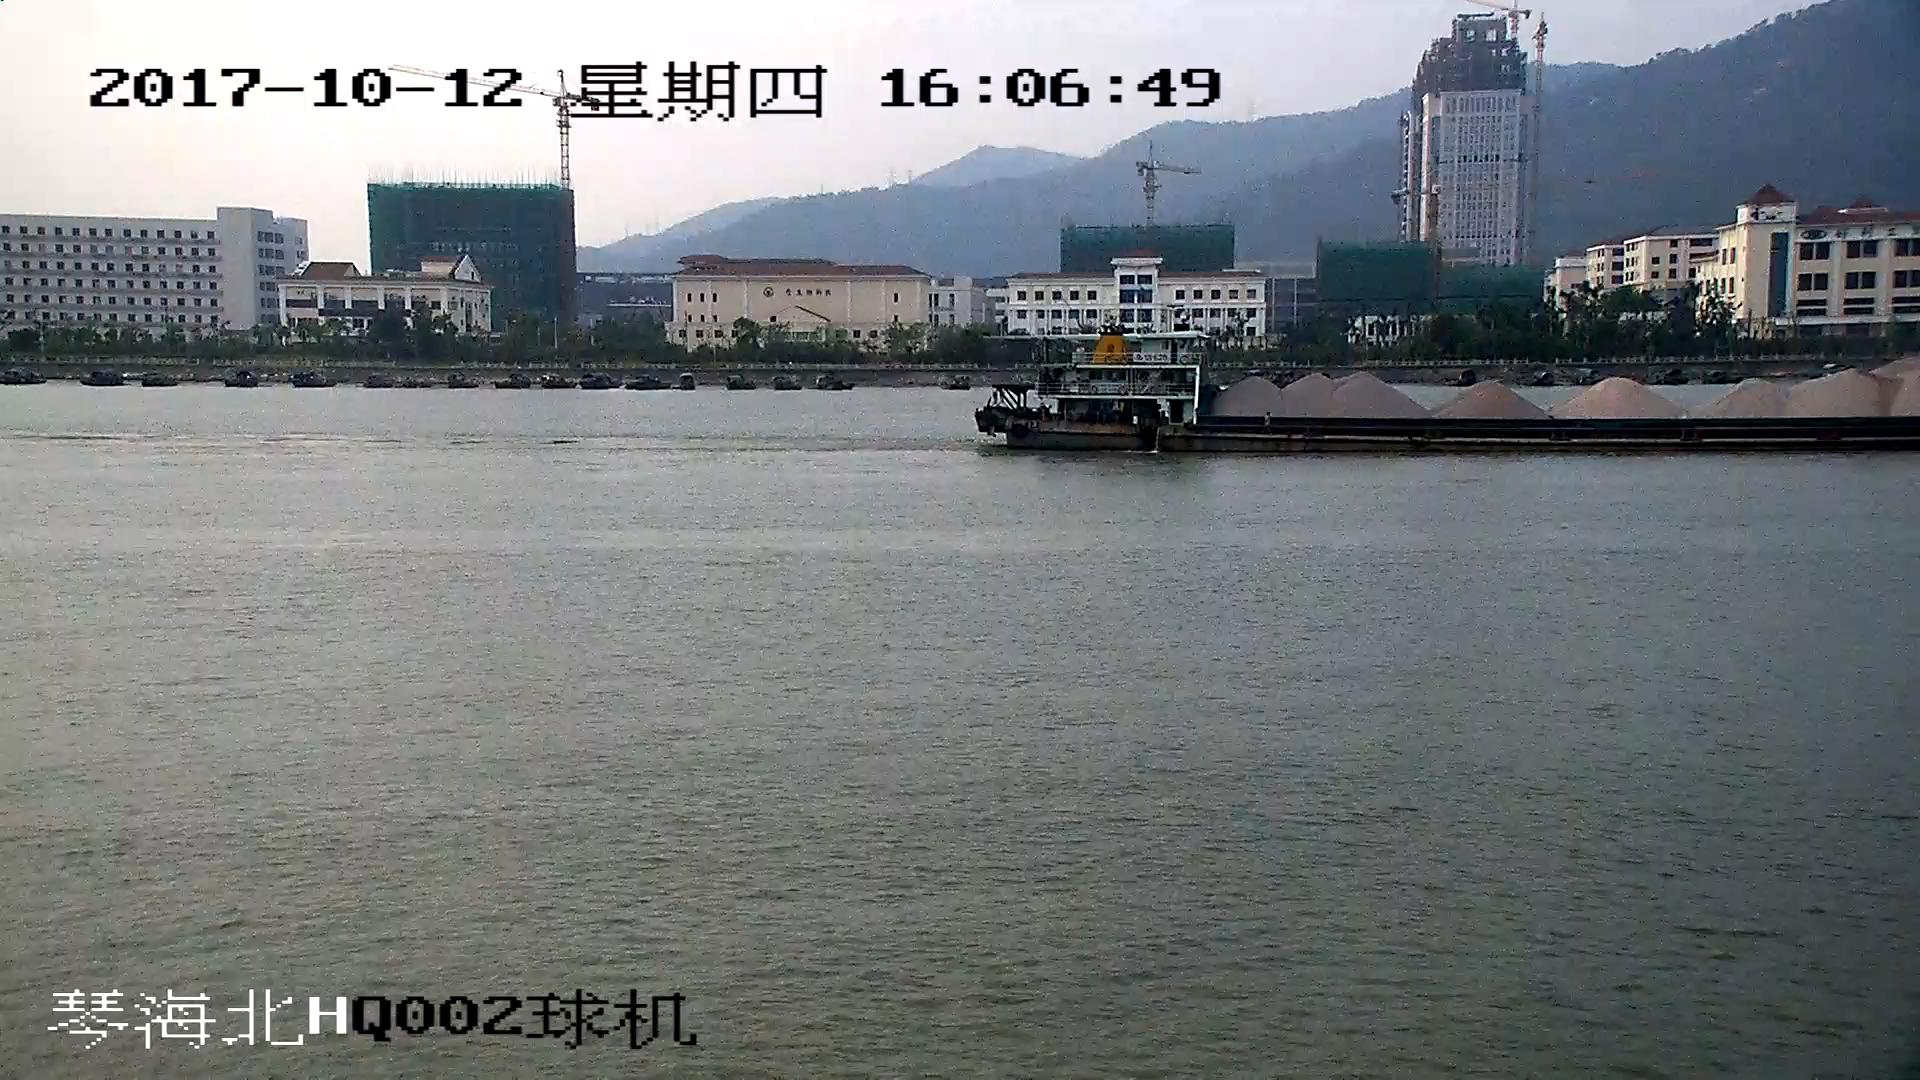ore carrier: (980, 337, 1920, 455)
